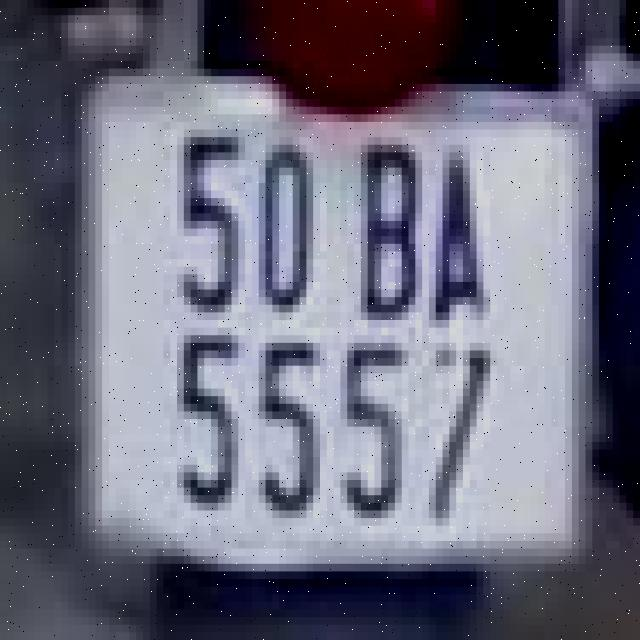0: (259, 137, 320, 320)
5: (170, 125, 245, 308), (256, 331, 324, 522), (341, 331, 408, 522), (174, 328, 242, 510)
7: (422, 339, 497, 530)
A: (436, 134, 490, 332)
B: (357, 130, 419, 328)
